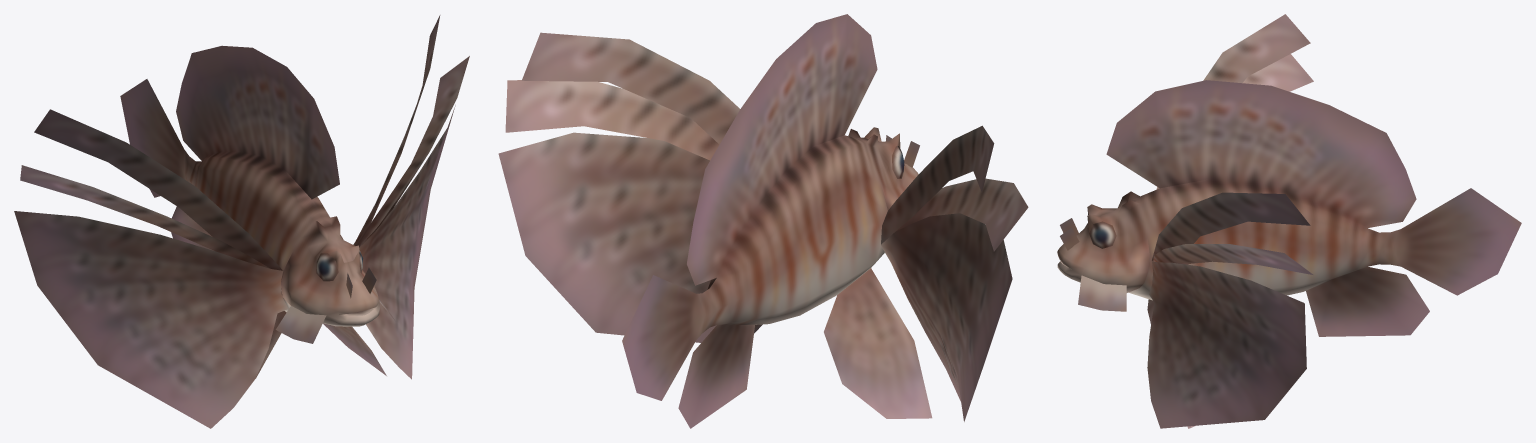
File: zebra-turkeyfish.glb
3 renders of one model, left to right at view 1: azimuth 30°, elevation 25°; view 2: azimuth 150°, elevation 25°; view 3: azimuth 270°, elevation 25°, orthographic. The views are drawn at different scales.
Parts seen in each view (by area): view 1: FishMinokasago__mMinokasago; view 2: FishMinokasago__mMinokasago; view 3: FishMinokasago__mMinokasago.
Part boxes in pixels (x1,y1,x2,y2): FishMinokasago__mMinokasago: [14, 15, 469, 428]; FishMinokasago__mMinokasago: [498, 14, 1028, 428]; FishMinokasago__mMinokasago: [1057, 14, 1521, 428].
Bounding box in the file's own units: 8.49 × 5.88 × 8.07.
1 material, 1 textured.
